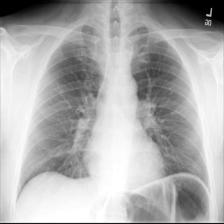normal: (14, 20, 214, 224)
